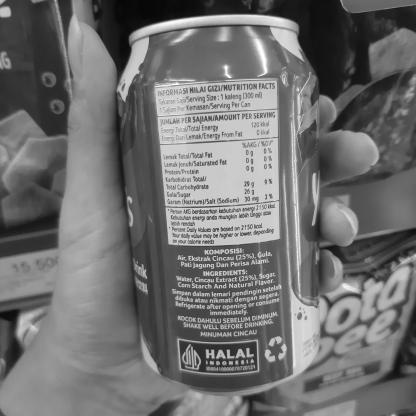alumunium_can: (95, 0, 340, 399)
